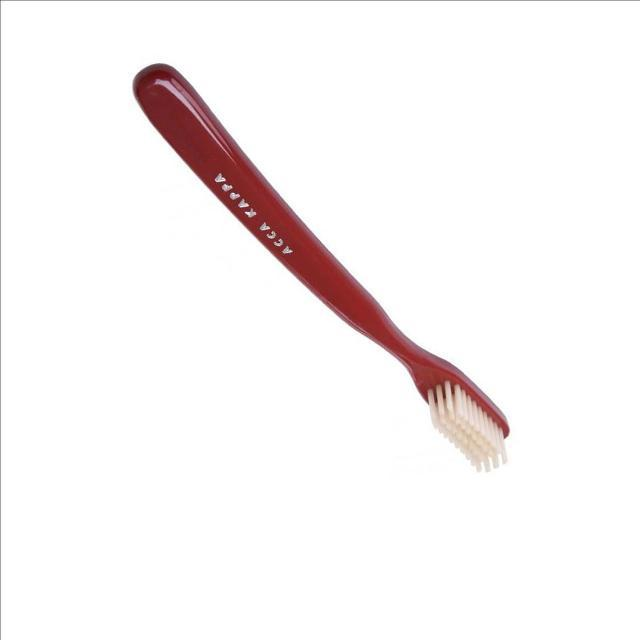toothbrush: (108, 42, 530, 482)
